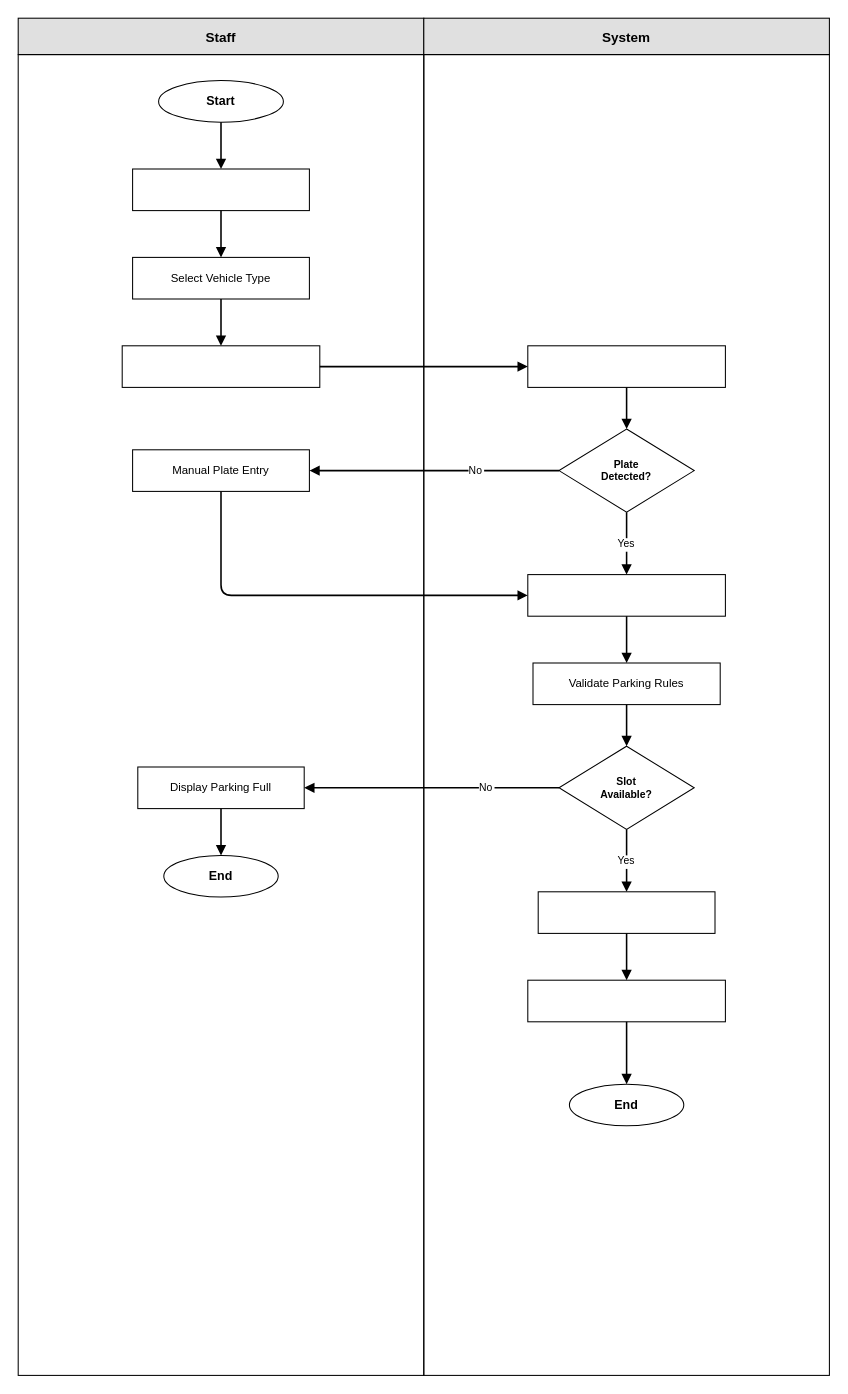
The diagram is 848 pixels wide and 1394 high, and some of its shapes have lost their labels. Each missing label, with the centre of its shape:
ALPR: Detect Plate (OCR): (x=626, y=366)
Assign Parking Slot: (x=626, y=912)
Capture Vehicle Photo: (x=220, y=366)
Create Parking Session: (x=626, y=1000)
Normalize Plate Number: (x=626, y=595)
Select Facility: (x=220, y=189)
